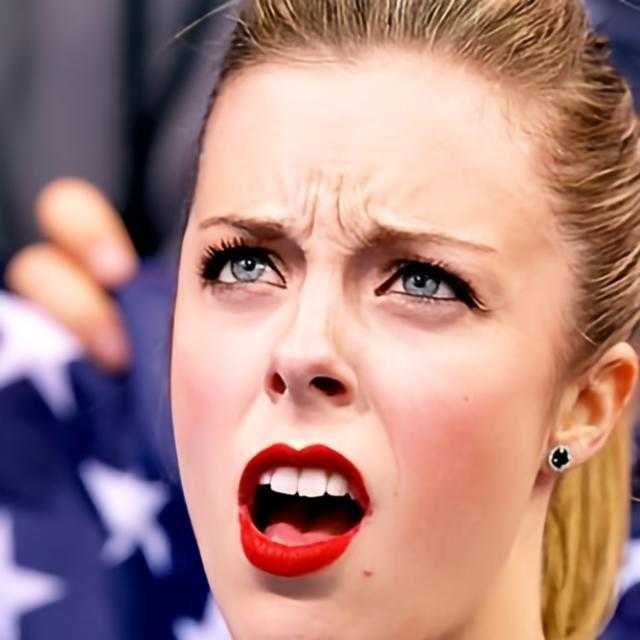disgust: (168, 42, 570, 640)
